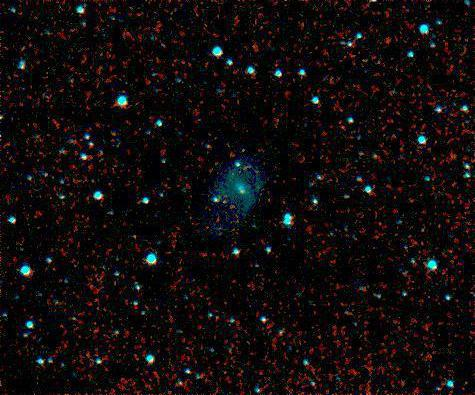star: (214, 186, 244, 216)
